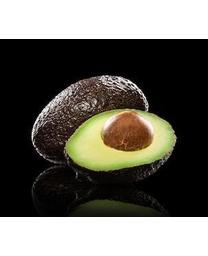avocado: (31, 74, 149, 167), (63, 109, 176, 184)
